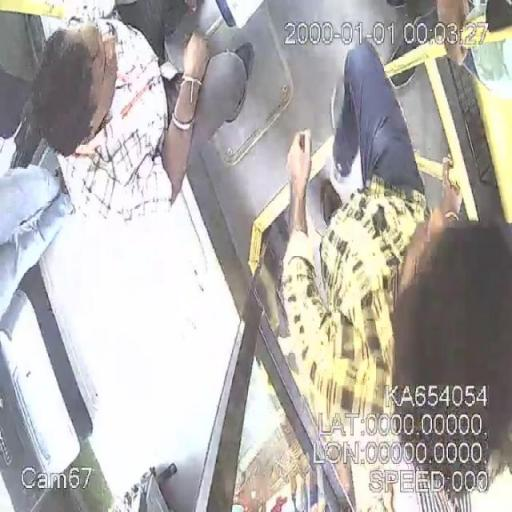persona: (276, 40, 512, 510), (34, 5, 254, 233), (2, 165, 66, 319)
